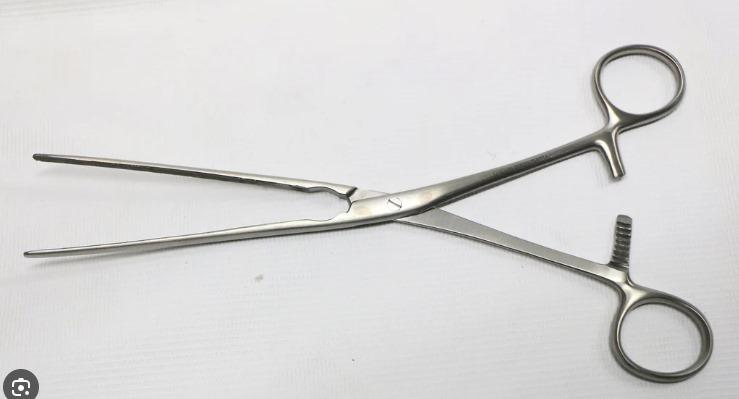Doyel Instestinal Forceps: (19, 43, 714, 381)
